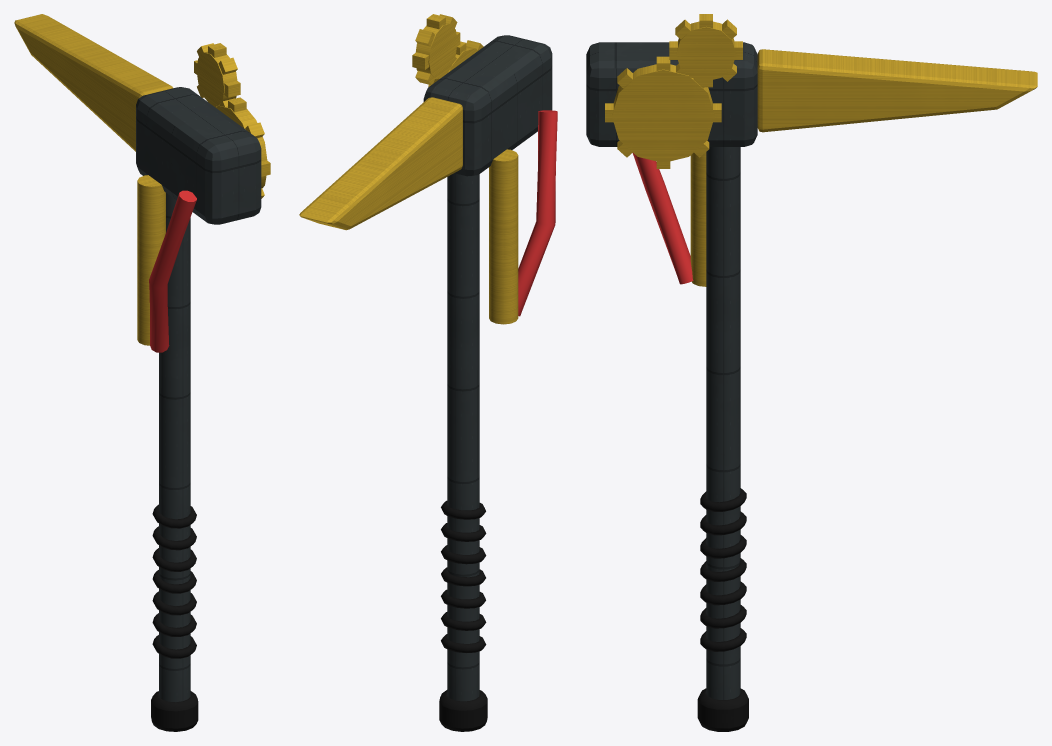
File: pickaxe_gearbreaker.glb
The picture shows the model from 3 angles, left to right: view 1: azimuth 30°, elevation 25°; view 2: azimuth 150°, elevation 25°; view 3: azimuth 270°, elevation 25°; orthographic projection. The views are drawn at different scales.
Visible parts, largest first — view 1: pickaxe_gearbreaker; view 2: pickaxe_gearbreaker; view 3: pickaxe_gearbreaker.
Boxes of the visible parts, x1,y1,x2,y2 form: pickaxe_gearbreaker: (14, 14, 270, 731); pickaxe_gearbreaker: (299, 14, 557, 731); pickaxe_gearbreaker: (586, 14, 1037, 731).
Bounding box in the file's own units: 0.142 × 0.933 × 0.5267.
Materials: 4 (3 with a texture image).
